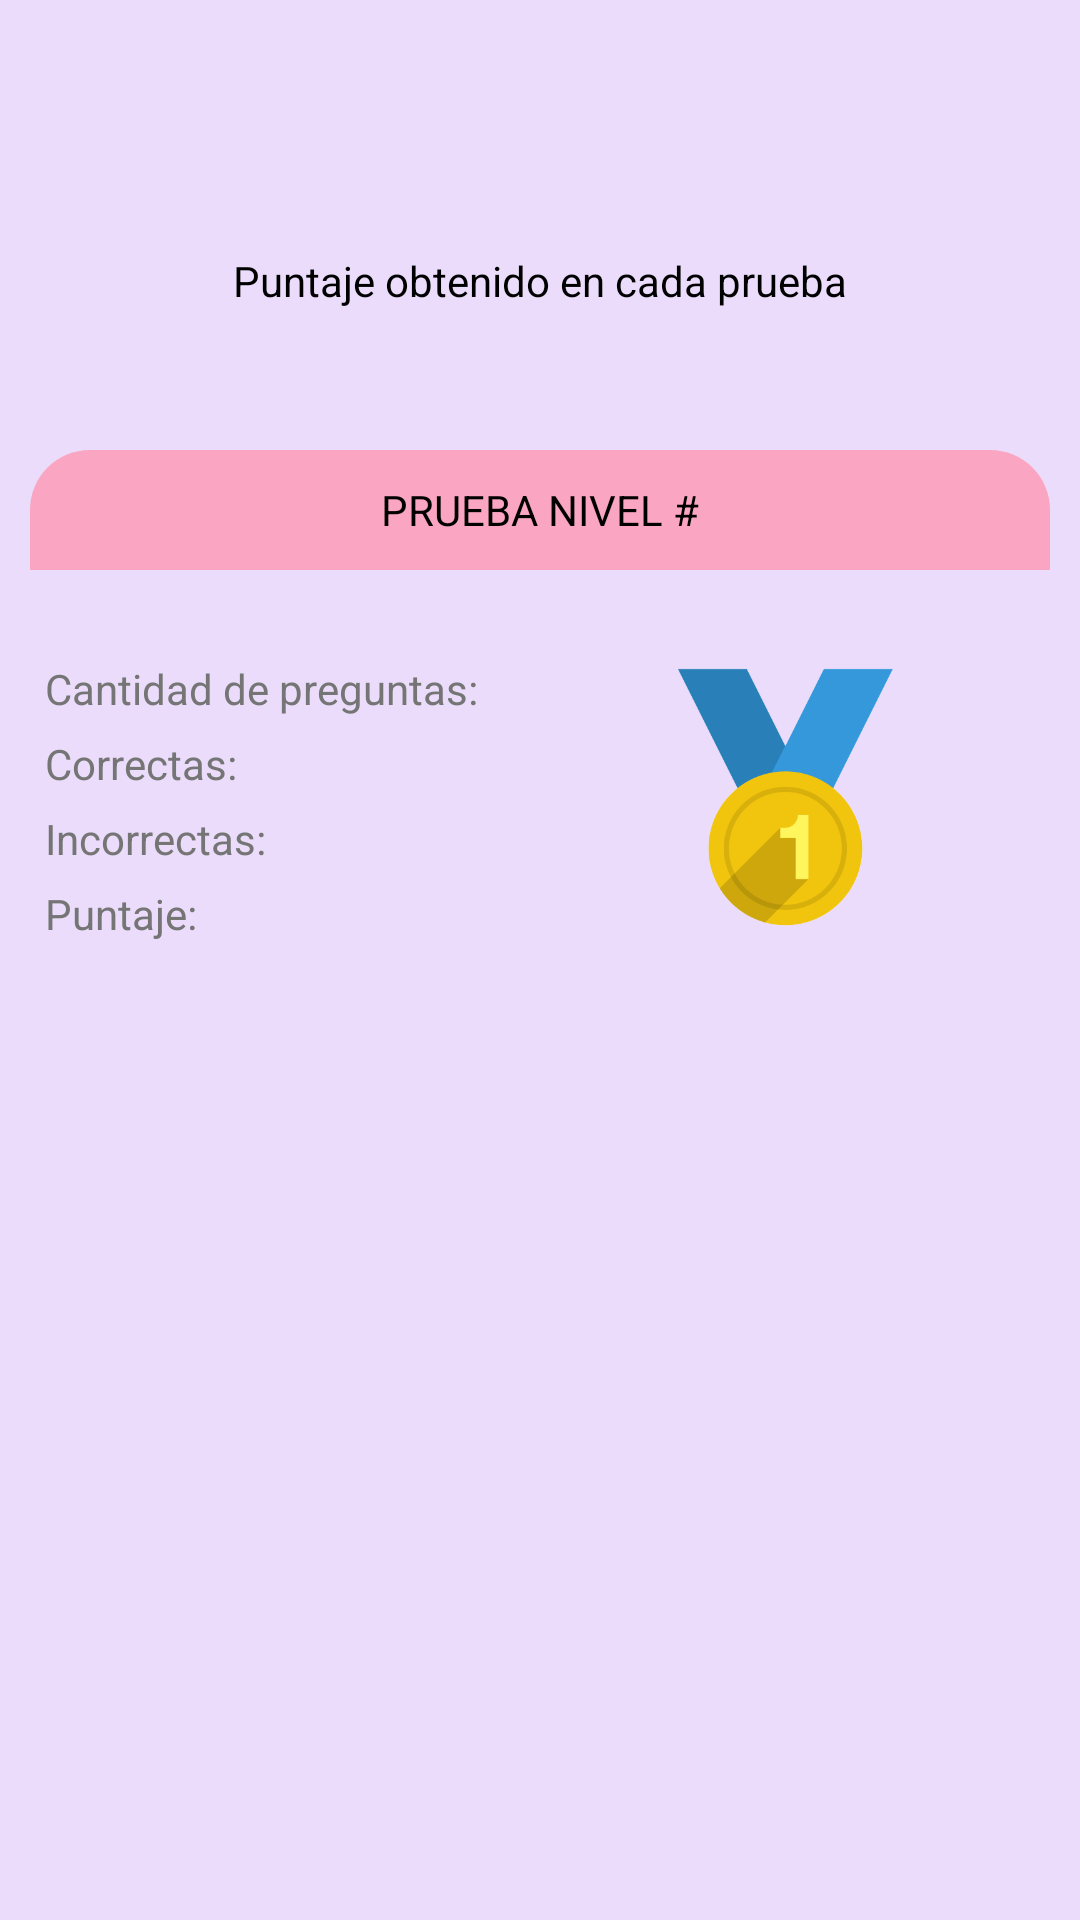

Named icons in this screenshot (1080x1920) and their bounding boxes, [x1=x1, y1=y1, x2=x2, y2=y2]:
medalla: [x1=678, y1=669, x2=893, y2=926]
